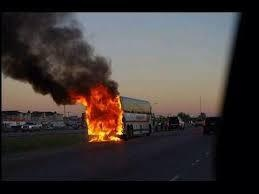fire: (72, 82, 127, 142)
